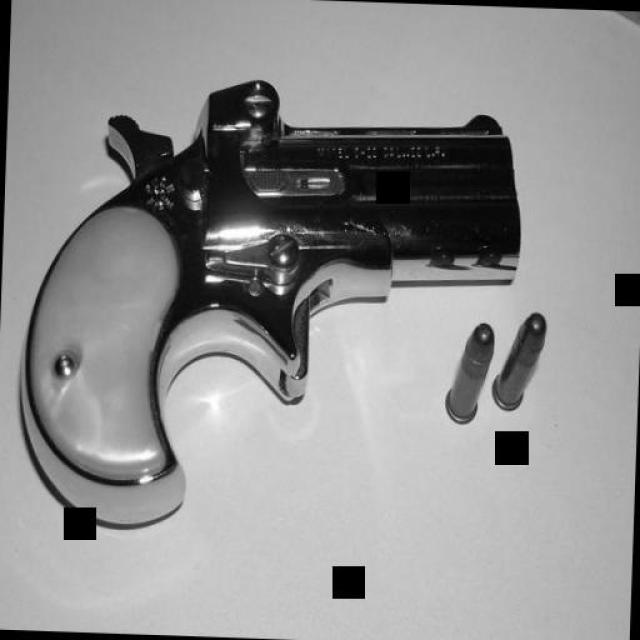gun: (11, 54, 530, 545)
